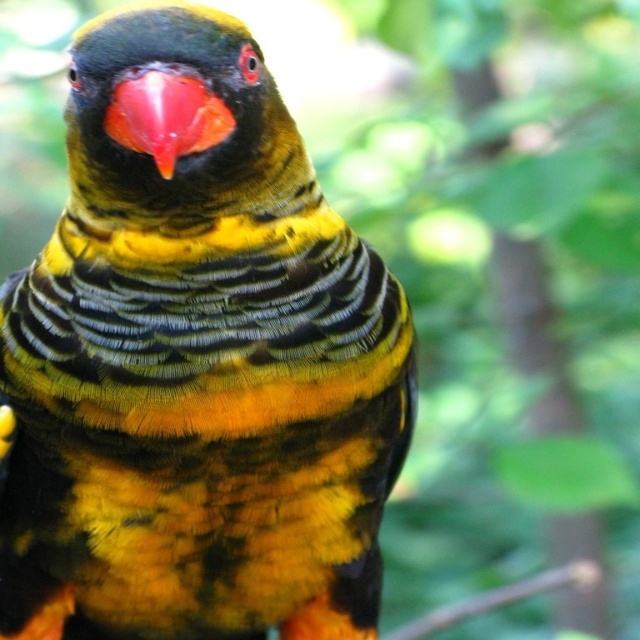Parrot: (0, 3, 427, 639)
